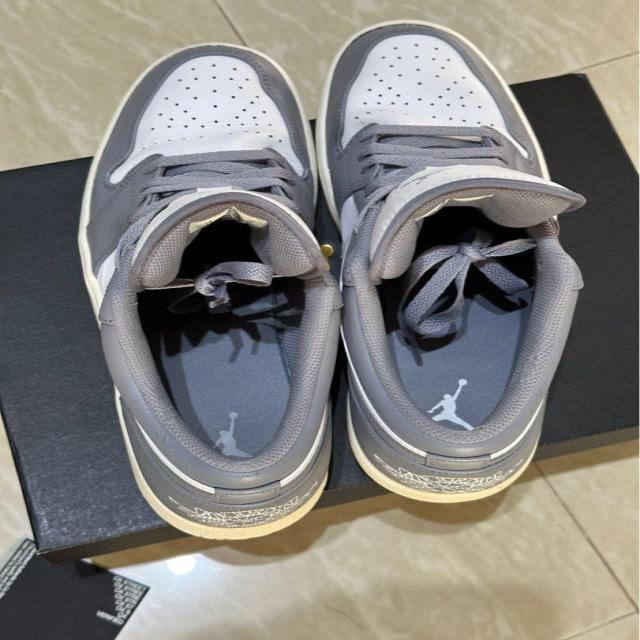nike original jordan 1: (308, 9, 586, 507), (85, 28, 349, 544)
